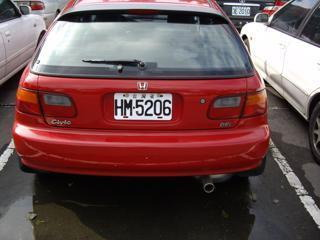plate: (114, 93, 172, 122)
